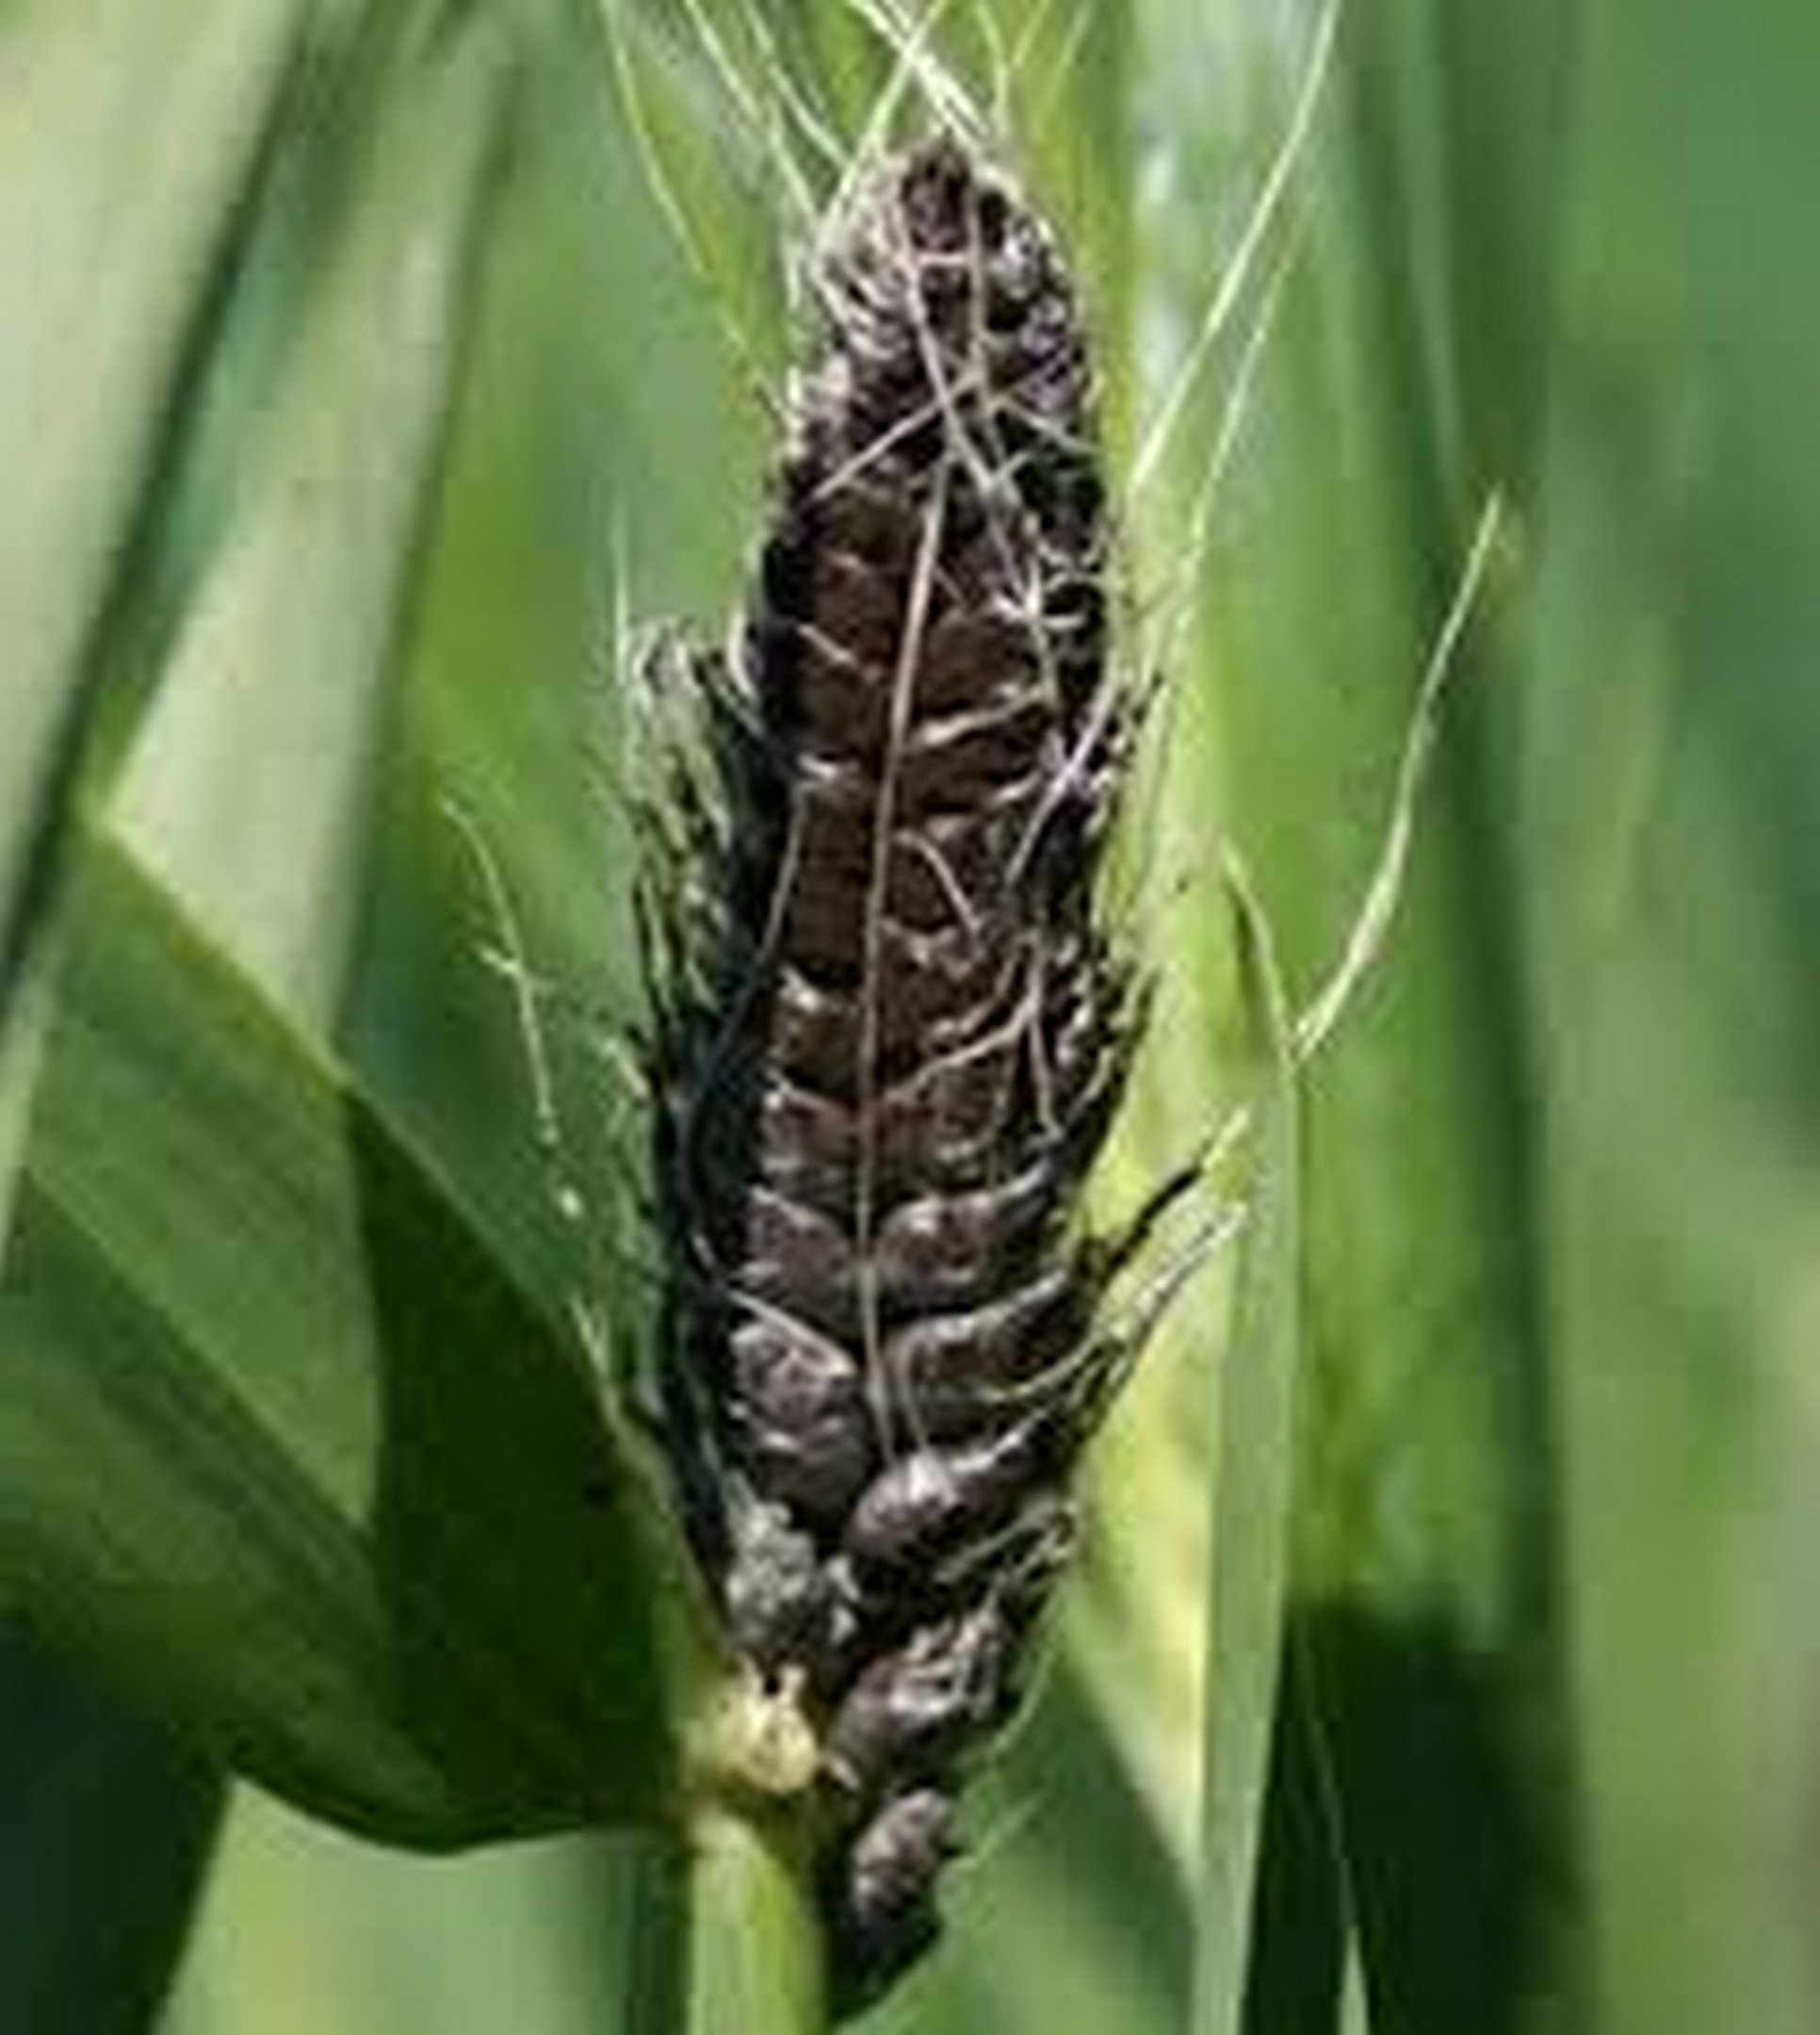Wheat Loose Smut: (625, 79, 1186, 1756)
